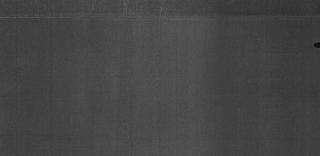welding line: (1, 13, 320, 24)
